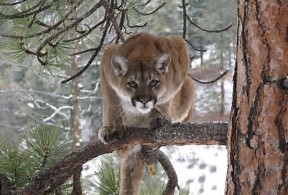Mountain Lion: (107, 39, 195, 122)
